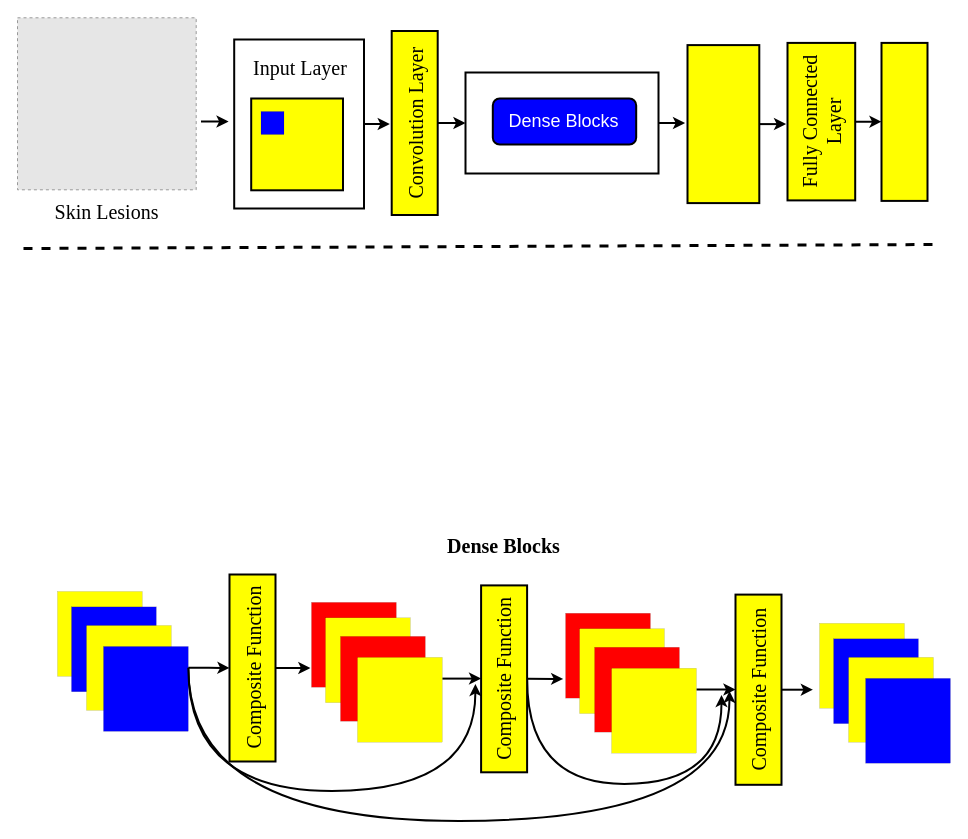
Some shapes in this 968 by 839 pixel diagram are drawn without their labels. Grey dashed boxes stand in for pictures. The centre of each missing label's shape, as x and y in pixels:
"Global Average Pooling Layer" goes at point 723,124.
"Output Layer" goes at point 904,121.
